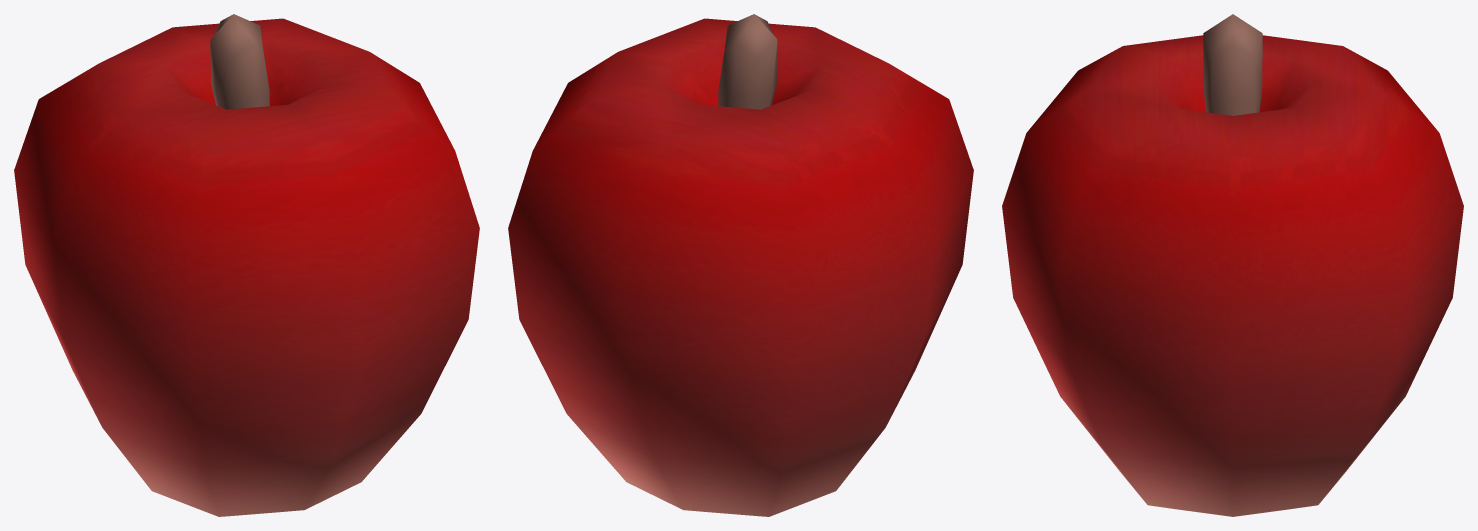
The model's file is Apple.fbx.
3 renders of one model, left to right at view 1: azimuth 30°, elevation 25°; view 2: azimuth 150°, elevation 25°; view 3: azimuth 270°, elevation 25°, orthographic.
Parts seen in each view (by area): view 1: Apple (4); view 2: Apple (4); view 3: Apple (4).
Boxes of the visible parts, box(x1,y1,x2,y2) form: Apple (4): box(14, 14, 479, 516); Apple (4): box(508, 14, 973, 516); Apple (4): box(1002, 14, 1463, 516).
Bounding box in the file's own units: 0.6167 × 0.7266 × 0.6472.
Materials: 1 (1 with a texture image).
